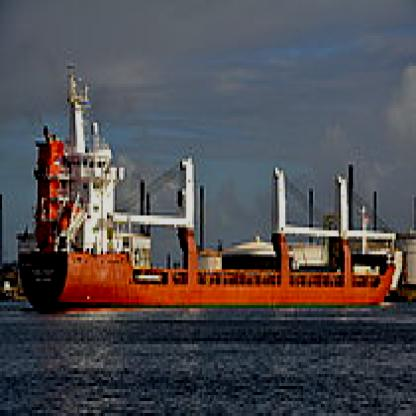Tanker: (28, 111, 386, 308)
